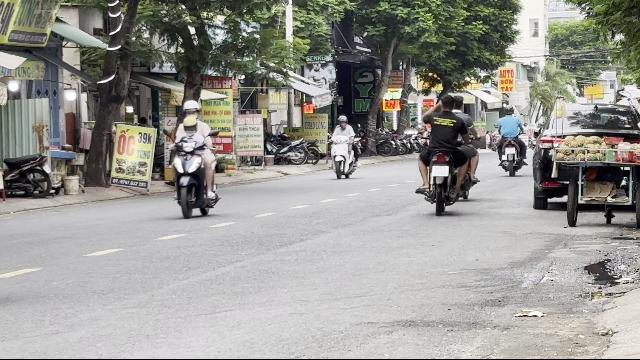helmet: (181, 99, 201, 118), (182, 115, 198, 136)
licenseplate: (432, 166, 448, 176)
motorcyclist: (414, 91, 481, 213), (168, 100, 220, 218)
nohelmet: (438, 93, 454, 112)
